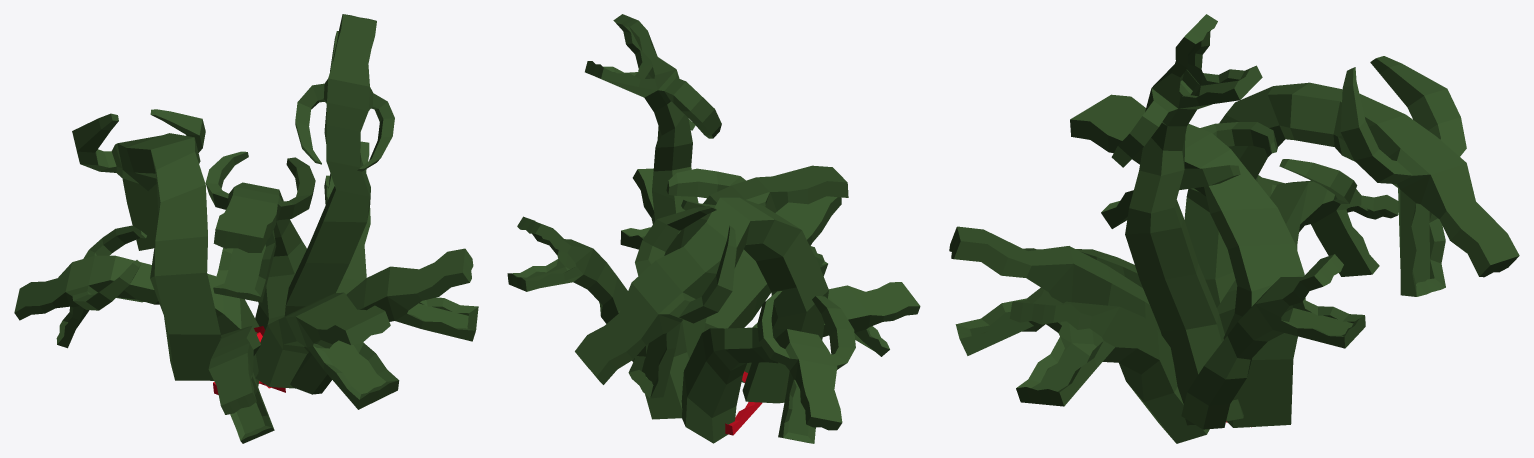
The model's file is yamata.glb.
3 renders of one model, left to right at view 1: azimuth 30°, elevation 25°; view 2: azimuth 150°, elevation 25°; view 3: azimuth 270°, elevation 25°, orthographic. The views are drawn at different scales.
Visible parts, largest first — view 1: 8, 2, 6, 4, 7, 3, 5, 1; view 2: 8, 7, 2, 6, 1, 4, 5, 3, Cube; view 3: 8, 2, 6, 3, 1, 4, 7, 5.
Boxes of the visible parts, x1,y1,x2,y2 form: 8: (72, 109, 221, 380); 2: (284, 14, 394, 316); 6: (205, 151, 315, 329); 4: (255, 292, 399, 409); 7: (14, 225, 259, 386); 3: (290, 248, 478, 394); 5: (208, 326, 274, 443); 1: (324, 141, 370, 294); 8: (575, 197, 828, 403); 7: (681, 291, 855, 443); 2: (585, 14, 721, 358); 6: (635, 165, 848, 419); 1: (507, 216, 634, 361); 4: (704, 196, 841, 331); 5: (741, 282, 920, 382); 3: (620, 168, 654, 249); Cube: (725, 371, 762, 435); 8: (1184, 56, 1519, 307); 2: (1111, 14, 1262, 425); 6: (1070, 94, 1305, 427); 3: (1009, 300, 1209, 443); 1: (1181, 254, 1365, 429); 4: (949, 226, 1161, 355); 7: (1217, 159, 1398, 333); 5: (1022, 248, 1142, 331).
Size of the model in its own units: 13.54 by 14.03 by 15.81.
